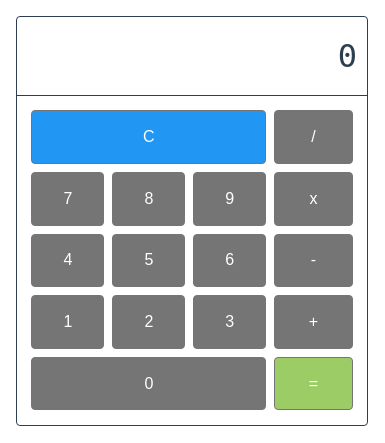
Test: adds two single-digit vals and renders correct result
Expected: the text with test id "displayValue" reads "0", [338, 37, 357, 75]
Click the button with test id "1": (68, 322) [31, 295, 104, 349]
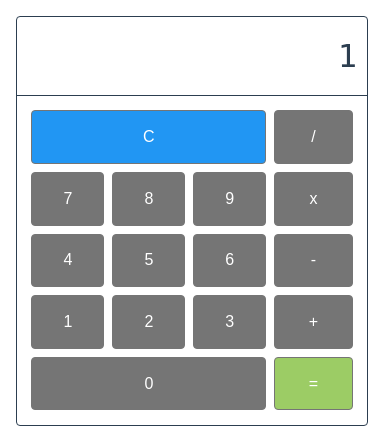
Click the button with test id "+": (313, 322) [274, 295, 353, 349]
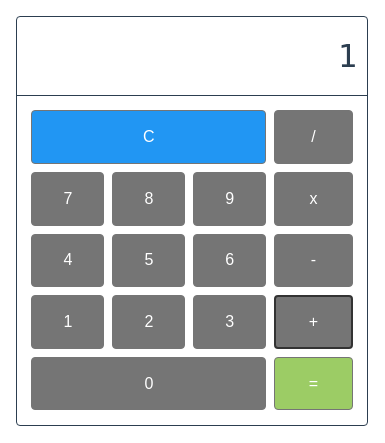
Click the button with test id "2": (149, 322) [112, 295, 185, 349]
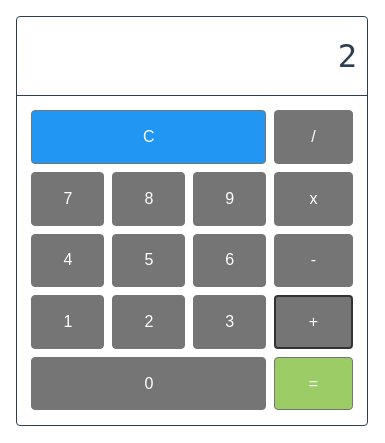
Click the button with test id "=": (313, 384) [274, 357, 353, 410]
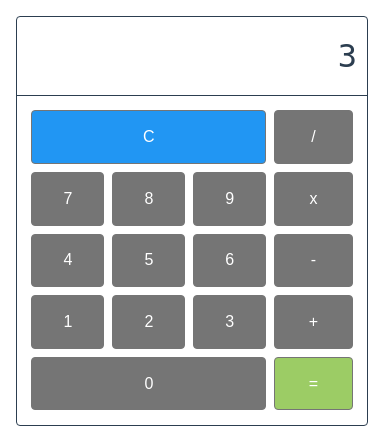
Result: the text with test id "displayValue" reads "3" at [338, 37, 357, 75]
